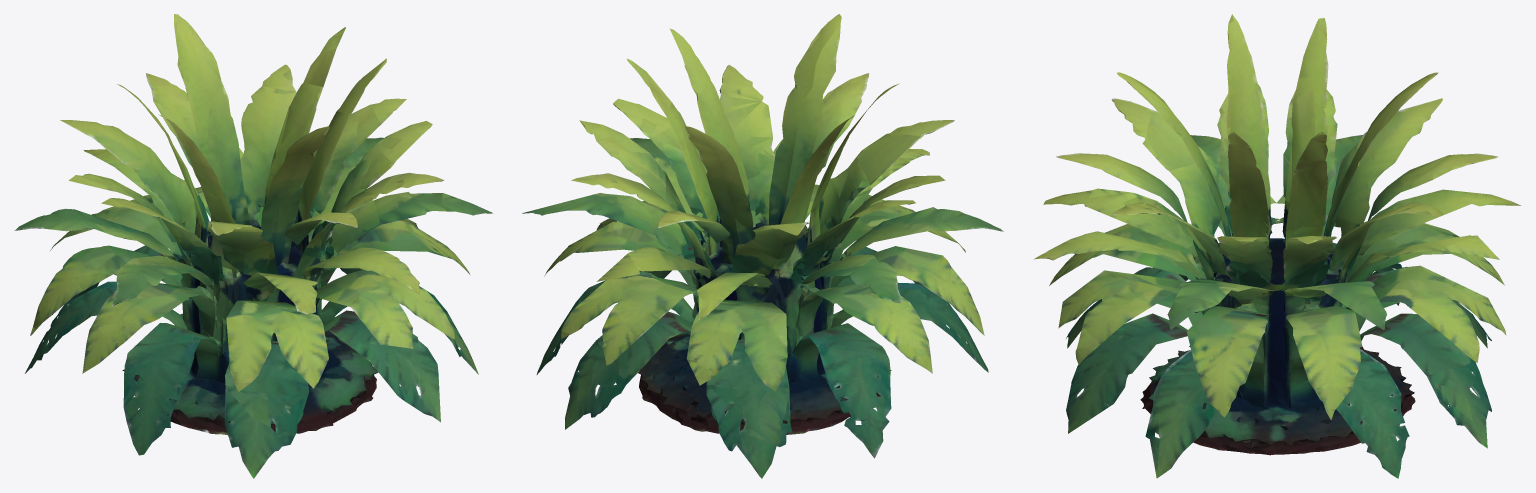
Rendered from fern.glb.
3 renders of one model, left to right at view 1: azimuth 30°, elevation 25°; view 2: azimuth 150°, elevation 25°; view 3: azimuth 270°, elevation 25°, orthographic. The views are drawn at different scales.
Parts seen in each view (by area): view 1: Rodin_fern; view 2: Rodin_fern; view 3: Rodin_fern.
Part boxes in pixels (x1,y1,x2,y2): Rodin_fern: (14, 14, 493, 478); Rodin_fern: (522, 14, 1003, 478); Rodin_fern: (1034, 14, 1521, 478).
Bounding box in the file's own units: 1.84 × 1.41 × 1.9.
Materials: 1 (1 with a texture image).
